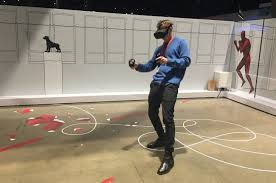oculus: (151, 27, 171, 40)
